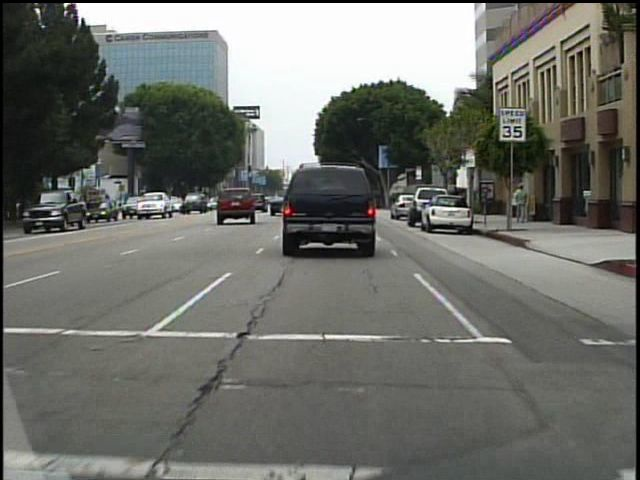person: (512, 181, 532, 228), (449, 184, 464, 220)
